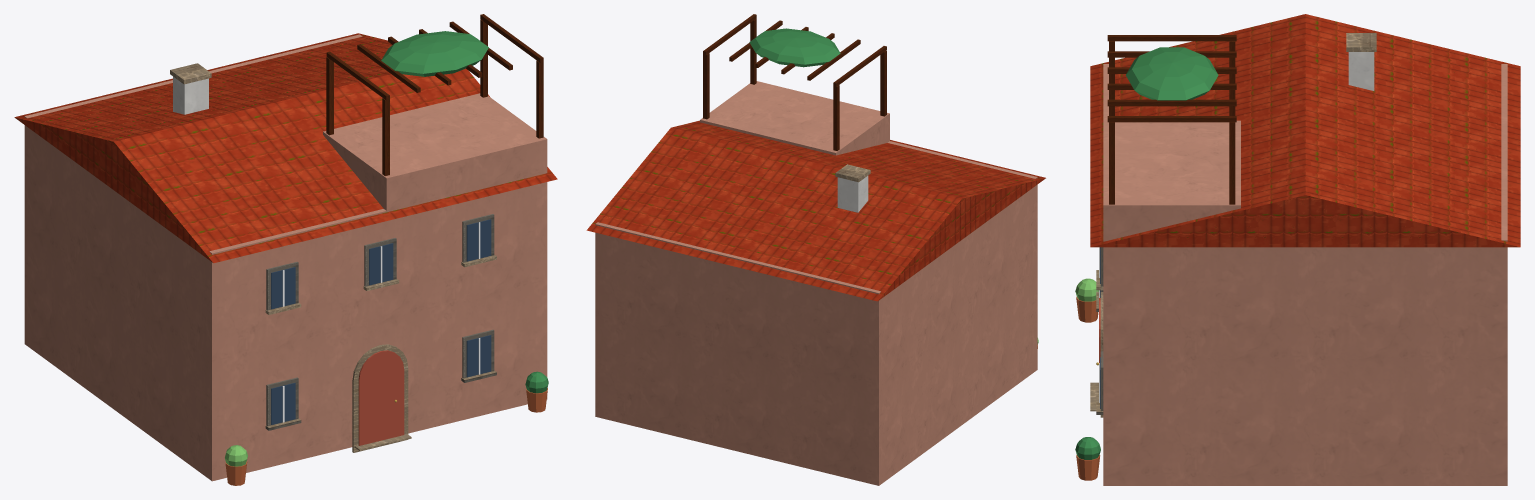
Rendered from mediterranea_w10_2.gltf.
The picture shows the model from 3 angles, left to right: view 1: azimuth 30°, elevation 25°; view 2: azimuth 150°, elevation 25°; view 3: azimuth 270°, elevation 25°; orthographic projection. The views are drawn at different scales.
Visible parts, largest first — view 1: mediterranea_w10_2; view 2: mediterranea_w10_2; view 3: mediterranea_w10_2.
Boxes of the visible parts, x1=… form: mediterranea_w10_2: x1=14, y1=14, x2=557, y2=485; mediterranea_w10_2: x1=586, y1=14, x2=1045, y2=485; mediterranea_w10_2: x1=1075, y1=14, x2=1520, y2=485.
Size of what is drawn, in the model's own units: 9.96 by 9.9 by 10.35.
7 materials, 4 textured.
